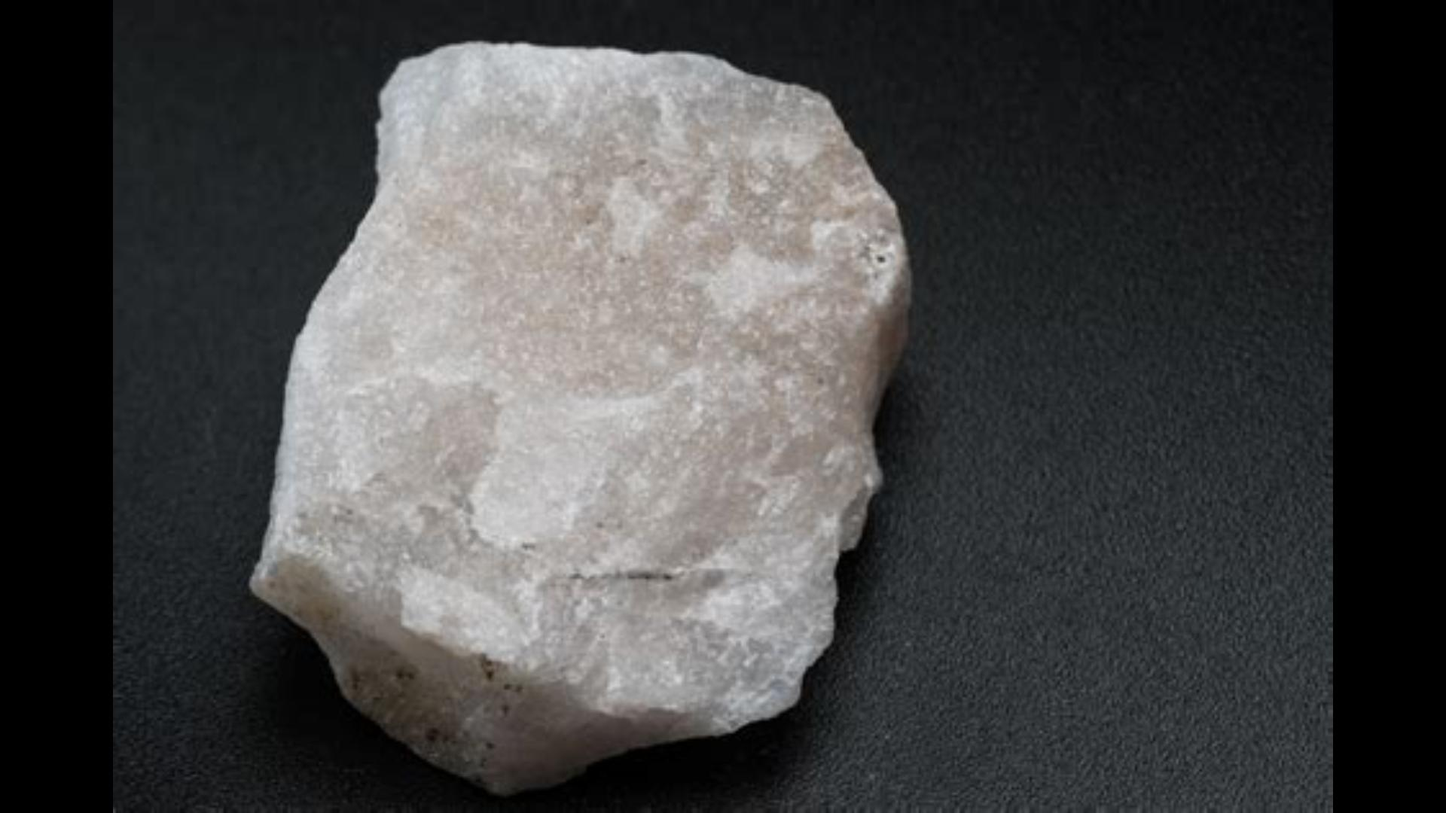rock: (252, 44, 906, 787)
